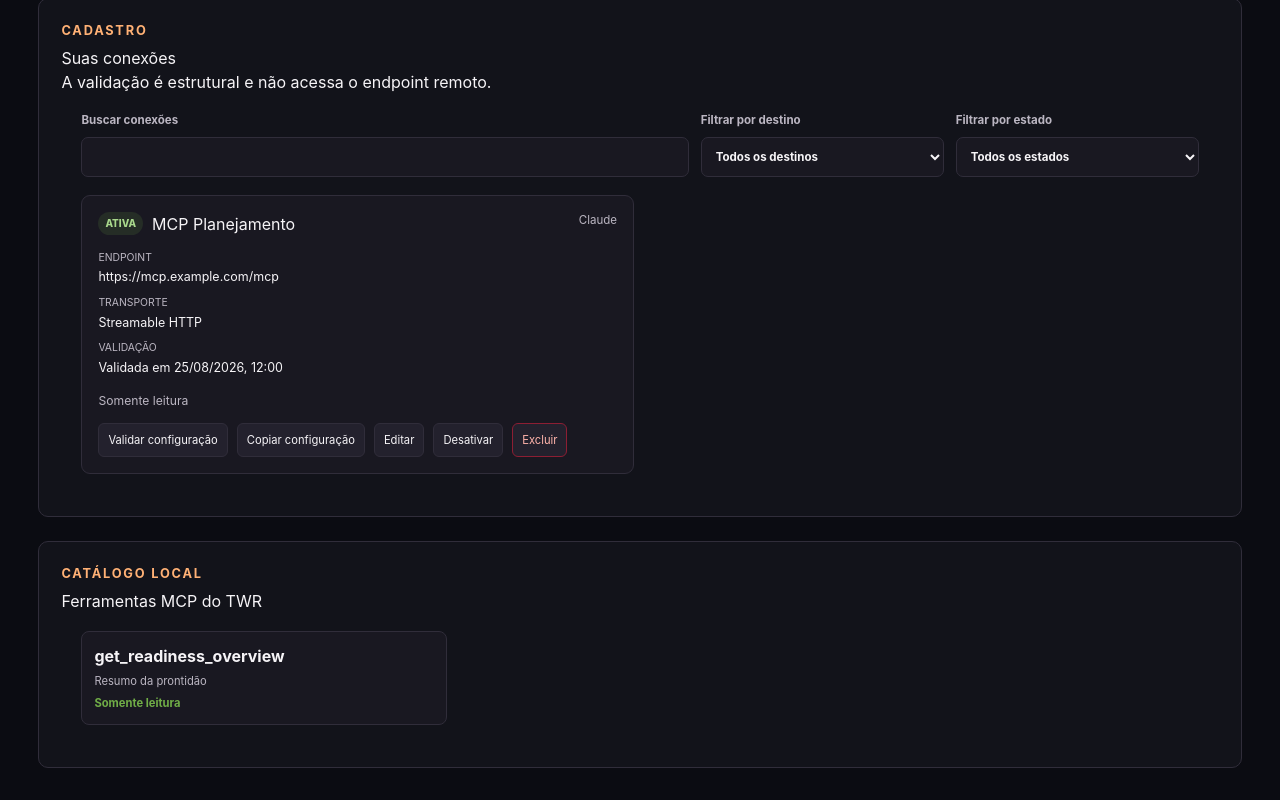
it: McpConnectionsPage › shows persisted validation state and trusts an edited API response that clears it
(page scrolled)
expect the text "MCP Planejamento" is shown: met, box [152,214,295,234]
expect the text "Validada em 25/08/2026, 12:00" is shown: met, box [98,360,283,375]
Click the button with aria-label "Editar MCP Planejamento".
click(399, 440)  # box [374,423,424,457]
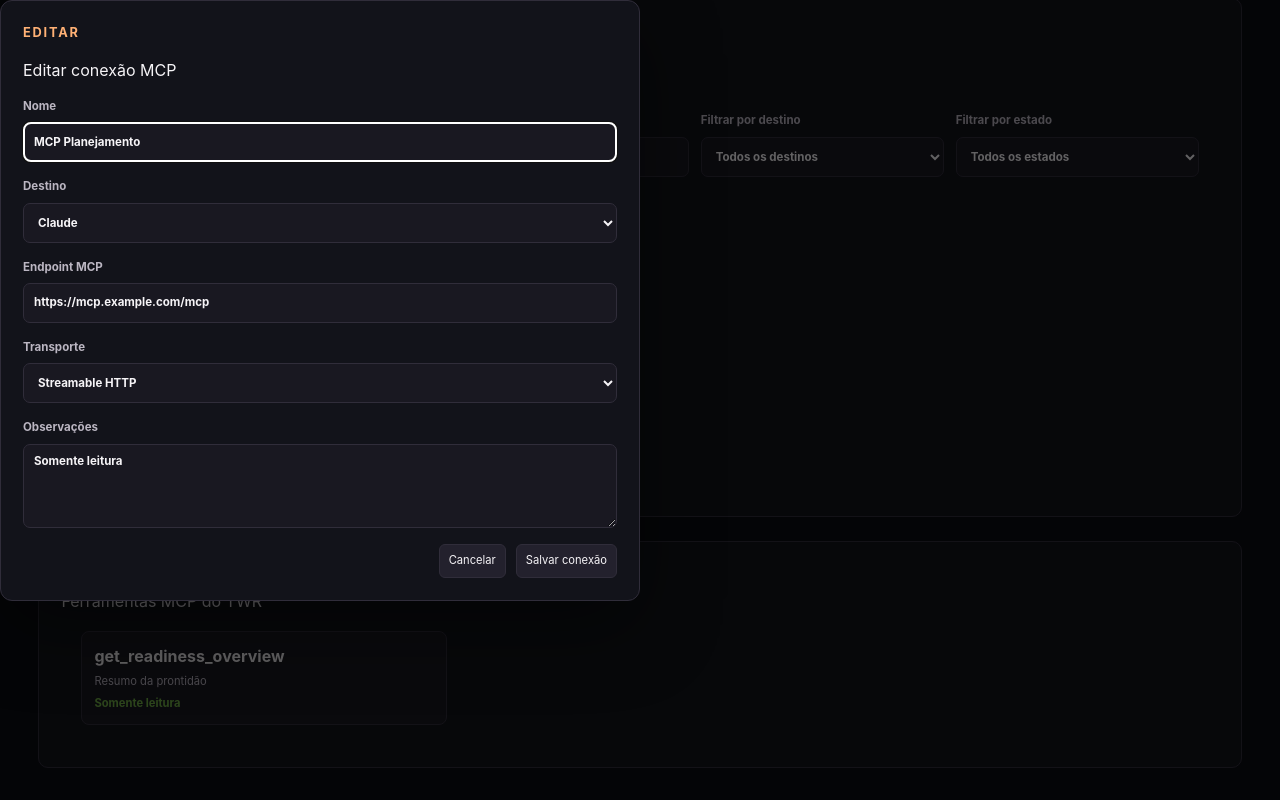
Replace the text in the field labelled "Endpoint MCP" with "https://novo.example.com/mcp" at (320, 303), box [23,283,617,323]
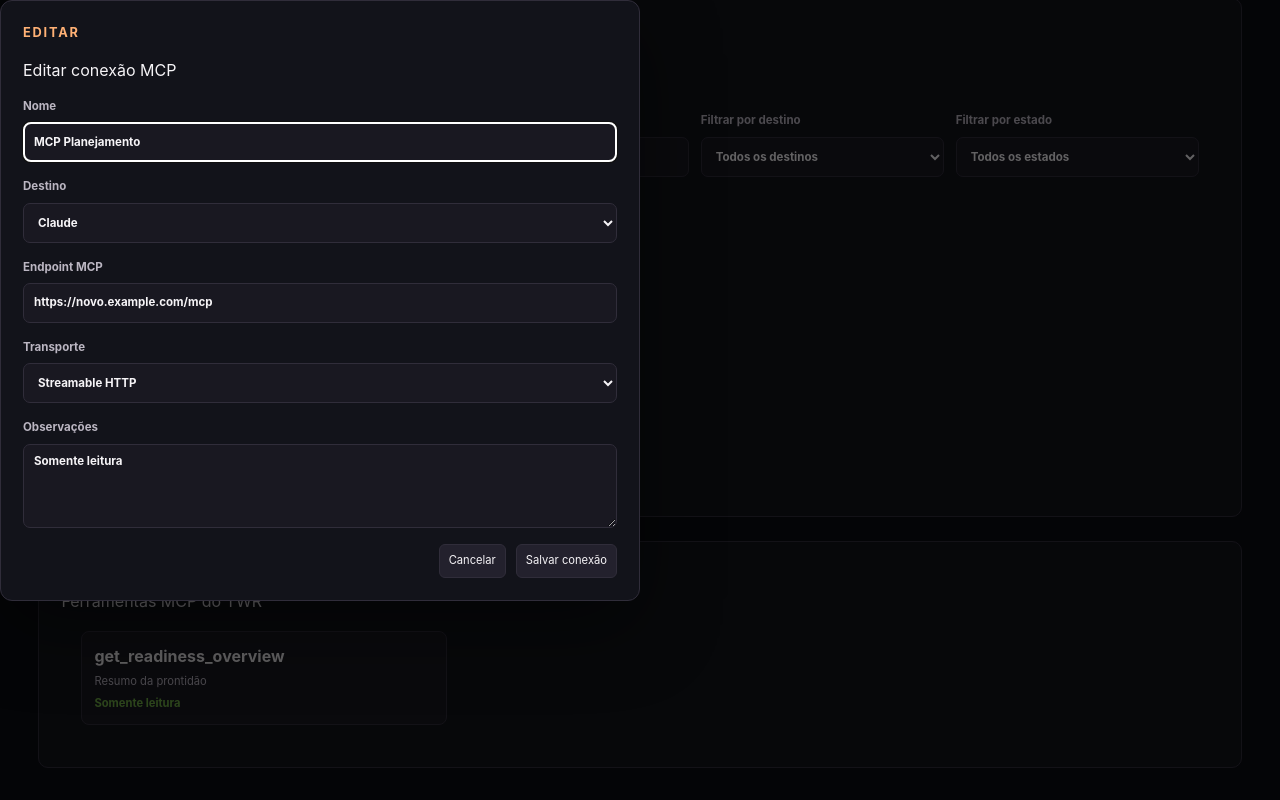
Click the button "Salvar conexão".
click(566, 560)  # box [516,544,617,578]
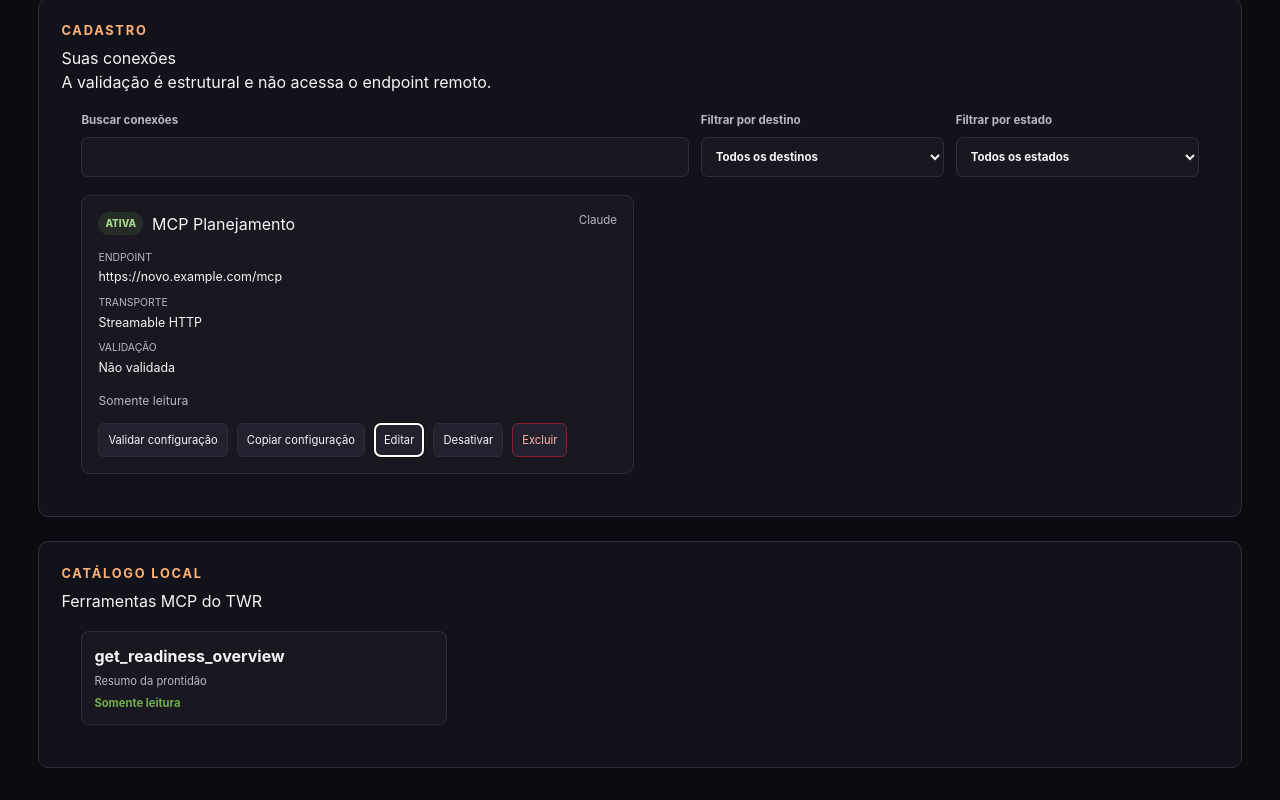
expect the text "https://novo.example.com/mcp" is shown: met, box [98,269,282,284]
expect the text "Não validada" is shown: met, box [98,360,175,375]
expect the text "Validada em " is gone: met
